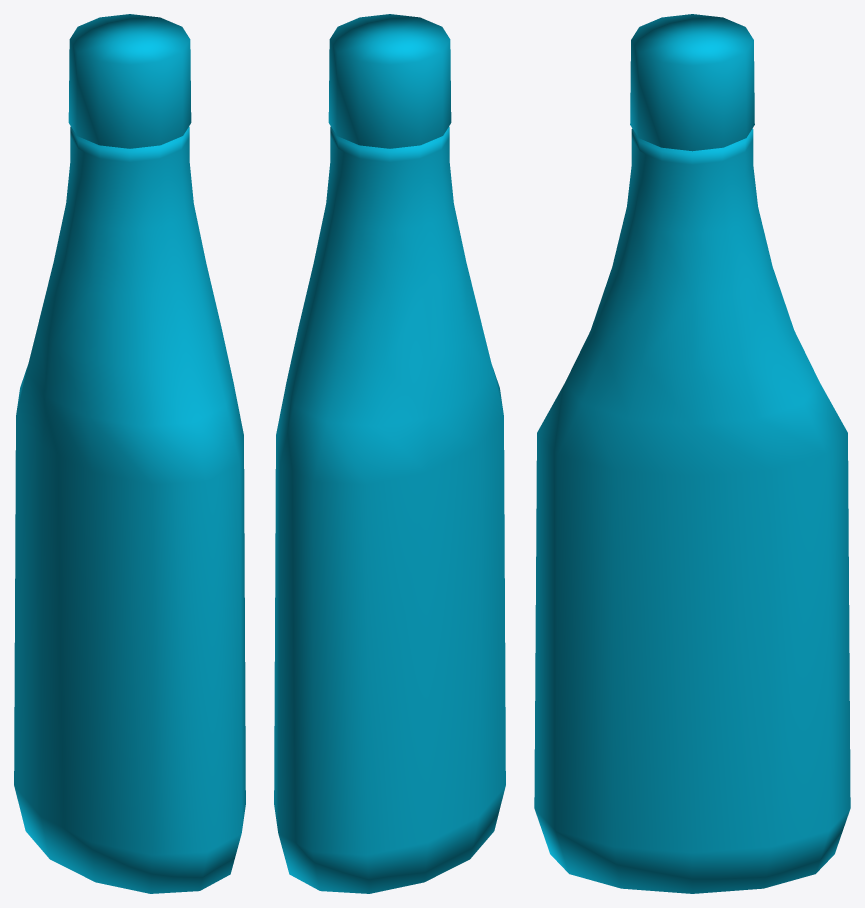
File: Ketchup_Bottle_01_Lod0.fbx
3 renders of one model, left to right at view 1: azimuth 30°, elevation 25°; view 2: azimuth 150°, elevation 25°; view 3: azimuth 270°, elevation 25°, orthographic.
Visible parts, largest first — view 1: Ketchup_Bottle_01_Lod0; view 2: Ketchup_Bottle_01_Lod0; view 3: Ketchup_Bottle_01_Lod0.
Boxes of the visible parts, left/top/right/bottom form: Ketchup_Bottle_01_Lod0: left=14, top=14, right=245, bottom=893; Ketchup_Bottle_01_Lod0: left=274, top=14, right=505, bottom=893; Ketchup_Bottle_01_Lod0: left=534, top=14, right=850, bottom=893.
Bounding box in the file's own units: 5.86 × 25.32 × 8.87.
